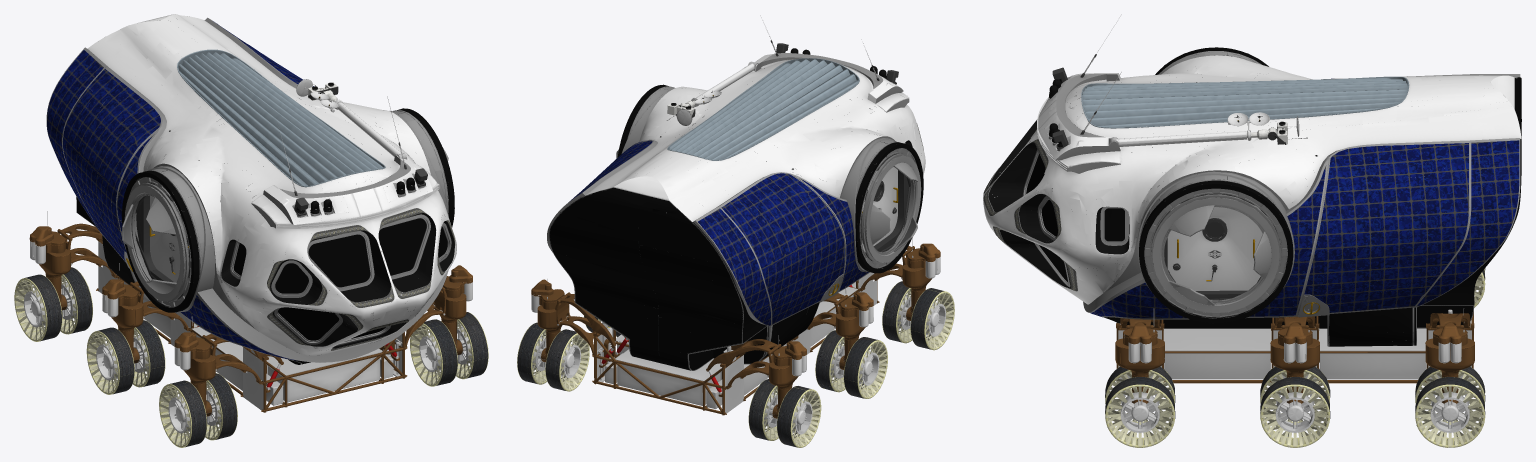
File: NASA_Space_Exploration_Vehicle.fbx
3 views of the same model, side by side, from view 1: azimuth 30°, elevation 25°; view 2: azimuth 150°, elevation 25°; view 3: azimuth 270°, elevation 25° (orthographic). The views are drawn at different scales.
Visible parts, largest first — view 1: MMSEV; view 2: MMSEV; view 3: MMSEV.
Part boxes in pixels (box(x1,y1,x2,y2)): MMSEV: box(14, 14, 488, 447); MMSEV: box(517, 15, 954, 447); MMSEV: box(983, 14, 1521, 447).
Bounding box in the file's own units: 314 × 309 × 460.
1 material, 1 textured.
